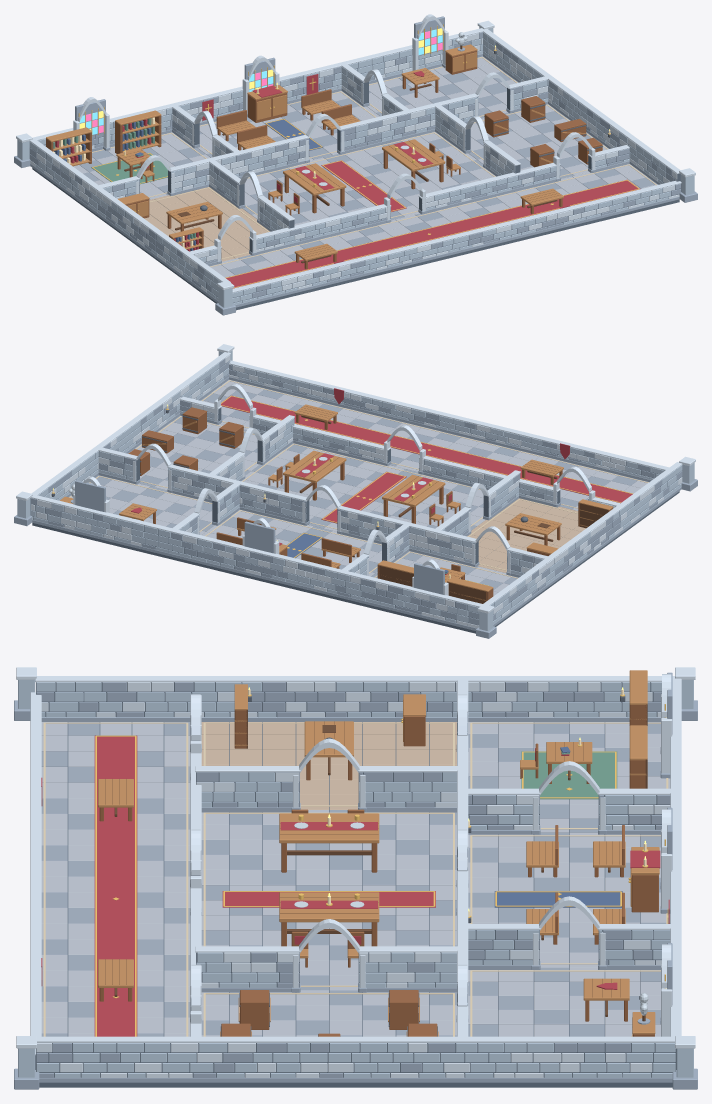
The model's file is midnight-castle.glb.
3 renders of one model, top to bottom at view 1: azimuth 30°, elevation 25°; view 2: azimuth 150°, elevation 25°; view 3: azimuth 270°, elevation 25°, orthographic. The views are drawn at different scales.
Parts seen in each view (by area): view 1: floor-tile, boundary-stone-light, floor-tile-dark, boundary-stone, furniture-wood-light, wall-stone-light, wall-stone, furniture-wood, boundary-stone-dark, wall-stone-dark, floor-wine, dressing-stone-light (+15 smaller); view 2: floor-tile, boundary-stone-light, boundary-stone, boundary-stone-dark, floor-tile-dark, wall-stone-light, wall-stone, wall-stone-dark, furniture-wood-light, floor-wine, dressing-stone-light, furniture-wood (+11 smaller); view 3: floor-tile, floor-tile-dark, boundary-stone-light, boundary-stone, furniture-wood-light, boundary-stone-dark, wall-stone-light, wall-stone, floor-wine, dressing-stone-light, floor-tile-warm, furniture-wood (+12 smaller).
Boxes of the visible parts, box(x1,y1,x2,y2) form: floor-tile: box(73, 56, 657, 277); boundary-stone-light: box(29, 28, 681, 292); floor-tile-dark: box(79, 71, 656, 275); boundary-stone: box(29, 32, 670, 304); furniture-wood-light: box(46, 44, 588, 260); wall-stone-light: box(96, 63, 629, 263); wall-stone: box(103, 67, 629, 262); furniture-wood: box(46, 50, 602, 269); boundary-stone-dark: box(29, 32, 680, 307); wall-stone-dark: box(112, 75, 629, 266); floor-wine: box(226, 160, 640, 288); dressing-stone-light: box(16, 14, 695, 290); floor-tile: box(69, 379, 648, 595); boundary-stone-light: box(31, 352, 682, 628); boundary-stone: box(31, 363, 682, 623); boundary-stone-dark: box(31, 358, 682, 630); floor-tile-dark: box(95, 388, 638, 589); wall-stone-light: box(96, 396, 619, 573); wall-stone: box(98, 410, 599, 575); wall-stone-dark: box(98, 400, 560, 577); furniture-wood-light: box(60, 404, 613, 600); floor-wine: box(221, 395, 632, 523); dressing-stone-light: box(16, 344, 695, 613); furniture-wood: box(120, 407, 612, 601); floor-tile: box(41, 722, 670, 1036); floor-tile-dark: box(41, 722, 670, 1036); boundary-stone-light: box(30, 676, 681, 1077); boundary-stone: box(36, 682, 675, 1077); furniture-wood-light: box(98, 670, 659, 1036); boundary-stone-dark: box(36, 682, 672, 1082); wall-stone-light: box(190, 680, 676, 1038); wall-stone: box(190, 713, 670, 1010); floor-wine: box(94, 735, 435, 1036); dressing-stone-light: box(16, 667, 695, 1048); floor-tile-warm: box(201, 722, 456, 809); furniture-wood: box(99, 705, 658, 1036).
Size of the model in its own units: 33.65 by 4.02 by 25.65.
